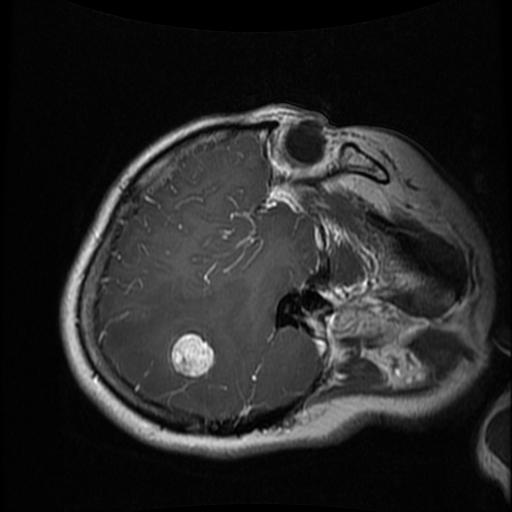glioma: (172, 331, 215, 378)
